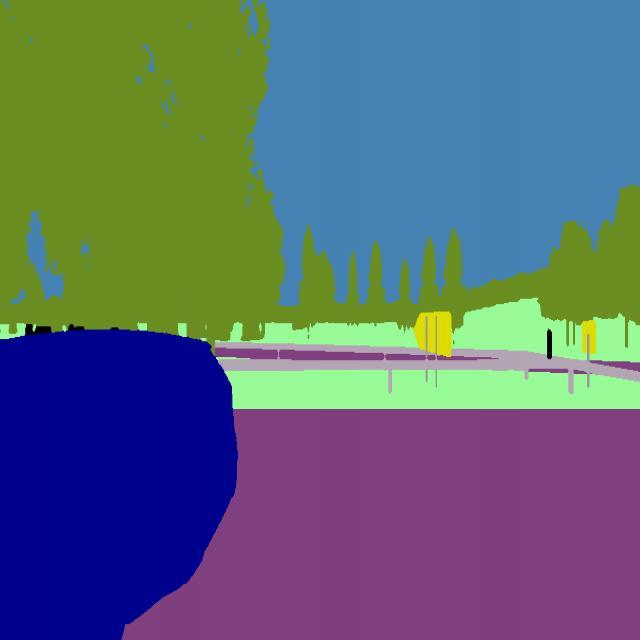unsafe: (0, 323, 240, 640)
